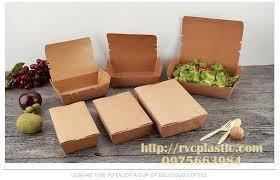box: (165, 15, 245, 100), (132, 79, 210, 140), (46, 37, 111, 105), (105, 34, 164, 88), (94, 91, 152, 145), (50, 100, 100, 155)
